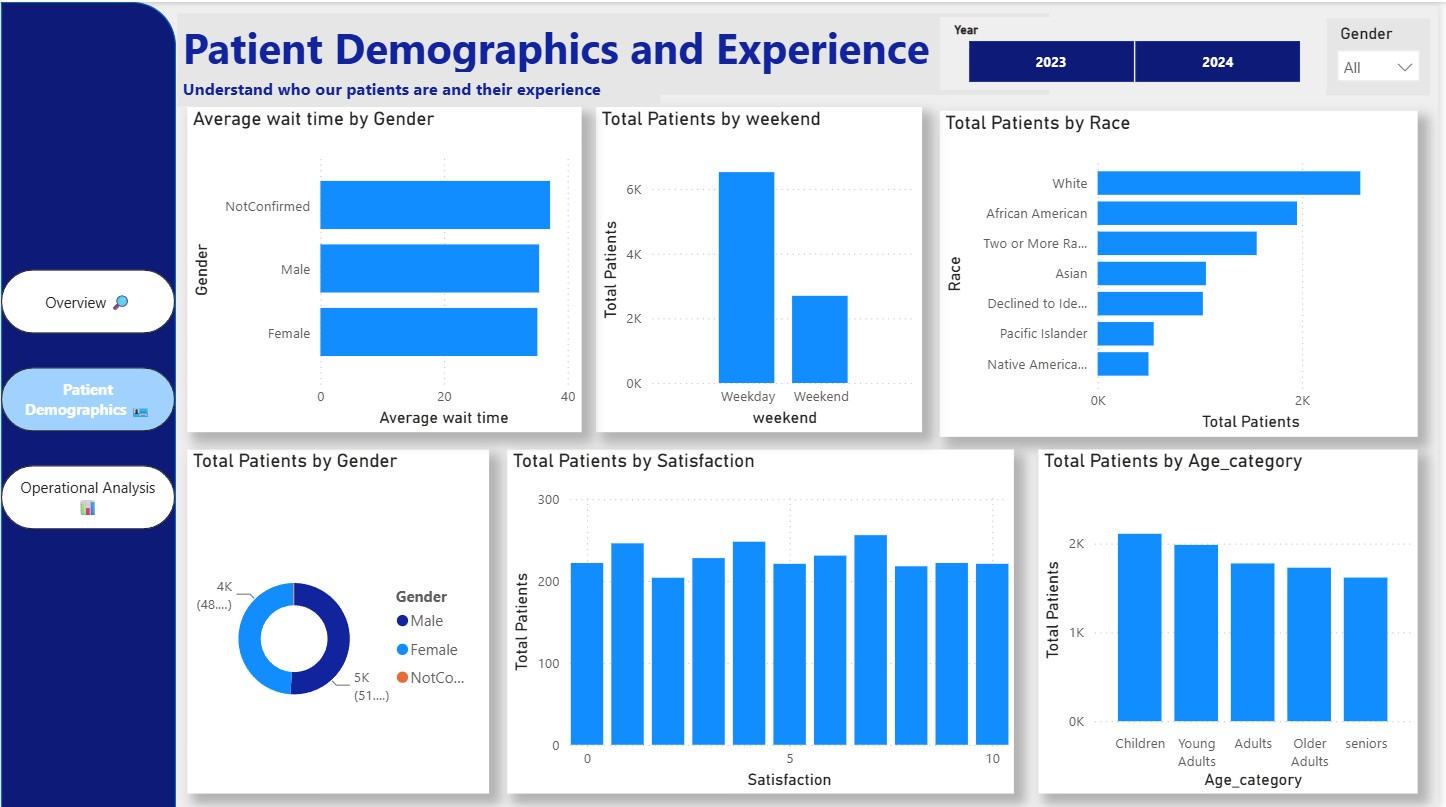

What the dashboard file says about the page in this screenshot:
{"tool":"powerbi","page":{"name":"Patient Demographics 🪪","canvas":[1280,720],"ordinal":1},"visuals":[{"type":"shape","box":[0,0,155.8,720.2],"z":0,"group":"g1"},{"type":"donutChart","fields":{"Category":["HospitalER_cleaned.Gender"],"Y":["HospitalER_cleaned.Total Patients"]},"box":[165.6,398.8,268.7,306.8],"z":0},{"type":"barChart","fields":{"Category":["HospitalER_cleaned.Race"],"Y":["HospitalER_cleaned.Total Patients"]},"box":[835.6,96.9,425.8,290],"z":1000},{"type":"pageNavigator","box":[0,238.6,155.7,231.4],"z":1000,"group":"g1"},{"type":"clusteredColumnChart","fields":{"Category":["HospitalER_cleaned.Age_category"],"Y":["HospitalER_cleaned.Total Patients"]},"box":[923.9,398.8,337.4,306.8],"z":2000},{"type":"columnChart","fields":{"Category":["HospitalER_cleaned.Satisfaction"],"Y":["HospitalER_cleaned.Total Patients"]},"box":[450.3,398.8,451.5,306.8],"z":3000},{"type":"clusteredColumnChart","fields":{"Category":["HospitalER_cleaned.weekend"],"Y":["HospitalER_cleaned.Total Patients"]},"box":[530.1,93.3,290.8,289.6],"z":4000},{"type":"barChart","fields":{"Category":["HospitalER_cleaned.Gender"],"Y":["HospitalER_cleaned.Average wait time"]},"box":[165.6,93.3,350.9,289.6],"z":5000},{"type":"textbox","box":[157.1,10,777.1,72.9],"z":6000},{"type":"slicer","fields":{"Values":["HospitalER_cleaned.Gender"]},"box":[1180.4,14.7,92.9,68.6],"z":7000},{"type":"group","id":"g1","title":"Group 1","box":[0,0,155.7,720],"z":8000},{"type":"slicer","fields":{"Values":["HospitalER_cleaned.Admission_Date.Variation.Date Hierarchy.Year"]},"box":[835.6,13.5,345.1,64.8],"z":9000},{"type":"textbox","box":[157.1,62.6,430.7,30.7],"z":10000}]}

Visuals, with their boxes in screenshot pixels (x1, y1, x2, y2), scaled from the page's 1280x720 canvas onto the 1446x807 screenshot:
shape: (x1=0, y1=0, x2=176, y2=806)
donutChart - HospitalER_cleaned.Gender x HospitalER_cleaned.Total Patients: (x1=187, y1=447, x2=491, y2=791)
barChart - HospitalER_cleaned.Race x HospitalER_cleaned.Total Patients: (x1=944, y1=109, x2=1425, y2=434)
pageNavigator: (x1=0, y1=267, x2=176, y2=527)
clusteredColumnChart - HospitalER_cleaned.Age_category x HospitalER_cleaned.Total Patients: (x1=1044, y1=447, x2=1425, y2=791)
columnChart - HospitalER_cleaned.Satisfaction x HospitalER_cleaned.Total Patients: (x1=509, y1=447, x2=1019, y2=791)
clusteredColumnChart - HospitalER_cleaned.weekend x HospitalER_cleaned.Total Patients: (x1=599, y1=105, x2=927, y2=429)
barChart - HospitalER_cleaned.Gender x HospitalER_cleaned.Average wait time: (x1=187, y1=105, x2=583, y2=429)
textbox: (x1=177, y1=11, x2=1055, y2=93)
slicer - HospitalER_cleaned.Gender: (x1=1333, y1=16, x2=1438, y2=93)
"Group 1" group: (x1=0, y1=0, x2=176, y2=806)
slicer - HospitalER_cleaned.Admission_Date.Variation.Date Hierarchy.Year: (x1=944, y1=15, x2=1334, y2=88)
textbox: (x1=177, y1=70, x2=664, y2=105)
